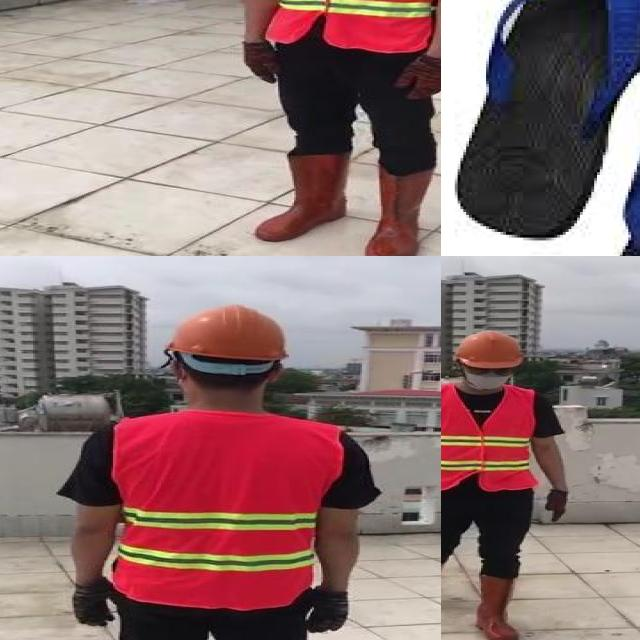Sandals: (441, 0, 640, 256)
boots: (257, 153, 351, 242), (367, 168, 431, 256), (476, 571, 522, 640)
hand_glove: (296, 587, 348, 633), (393, 52, 441, 99), (74, 581, 120, 627), (241, 42, 285, 87)
head_helmet: (166, 303, 294, 365), (451, 326, 526, 370)
person: (63, 299, 385, 640), (229, 0, 441, 256), (441, 322, 579, 640)
vest: (113, 411, 339, 604), (441, 384, 536, 491), (260, 0, 441, 51)
